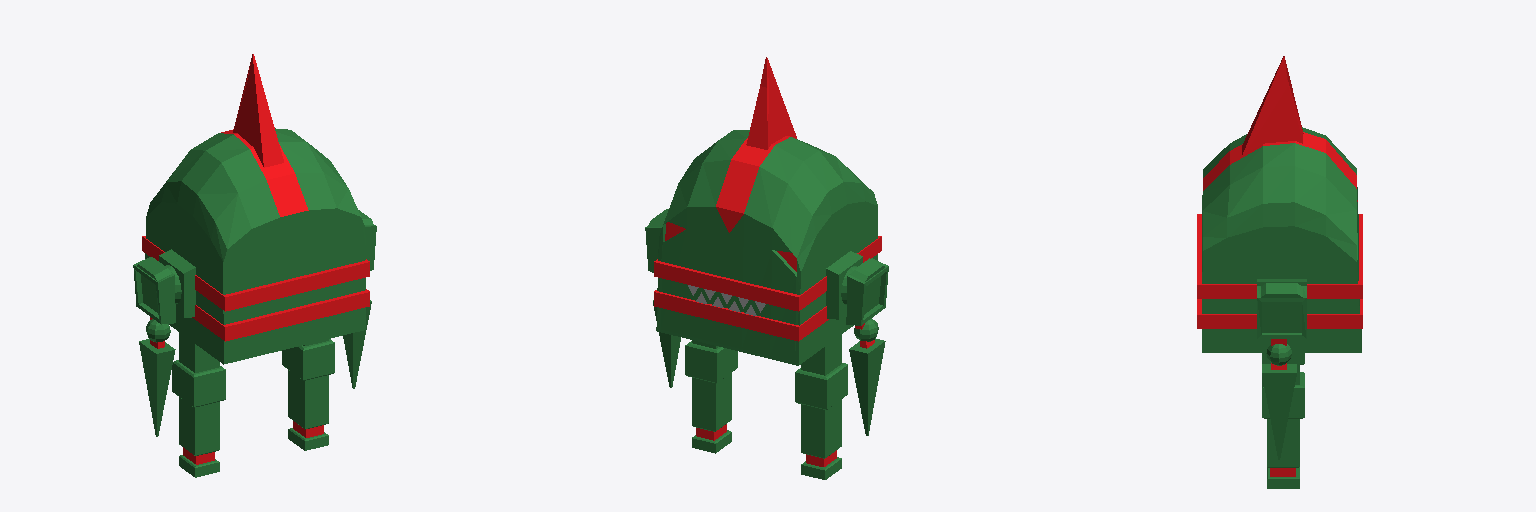
Rendered from Robo.obj.
3 renders of one model, left to right at view 1: azimuth 30°, elevation 25°; view 2: azimuth 150°, elevation 25°; view 3: azimuth 270°, elevation 25°, orthographic.
Parts seen in each view (by area): view 1: BODY, BRACES, SPIKE, UPPER_ARM1, LOWER_ARM1, polySurface6 polySurface10, LOWER_ARM; view 2: BODY, BRACES, SPIKE, UPPER_ARM1, LOWER_ARM1, polySurface6 polySurface10, LOWER_ARM, UPPER_ARM, TEETH; view 3: BODY, BRACES, SPIKE, UPPER_ARM, LOWER_ARM.
Part boxes in pixels (left/top/right/bottom): BODY: left=145, top=128, right=365, bottom=477; BRACES: left=142, top=236, right=369, bottom=341; SPIKE: left=233, top=54, right=283, bottom=167; UPPER_ARM1: left=133, top=257, right=175, bottom=324; LOWER_ARM1: left=139, top=339, right=175, bottom=436; polySurface6 polySurface10: left=159, top=249, right=195, bottom=317; LOWER_ARM: left=343, top=300, right=371, bottom=388; BODY: left=656, top=130, right=877, bottom=479; BRACES: left=654, top=236, right=881, bottom=341; SPIKE: left=746, top=57, right=796, bottom=149; UPPER_ARM1: left=846, top=258, right=888, bottom=329; LOWER_ARM1: left=849, top=338, right=885, bottom=435; polySurface6 polySurface10: left=826, top=251, right=862, bottom=319; LOWER_ARM: left=653, top=300, right=680, bottom=387; UPPER_ARM: left=645, top=209, right=668, bottom=272; TEETH: left=688, top=285, right=765, bottom=315; BODY: left=1202, top=127, right=1361, bottom=488; BRACES: left=1197, top=214, right=1362, bottom=328; SPIKE: left=1242, top=56, right=1303, bottom=155; UPPER_ARM: left=1257, top=283, right=1306, bottom=345; LOWER_ARM: left=1262, top=363, right=1296, bottom=459.
Bounding box in the file's own units: 3.83 × 6.72 × 2.52.